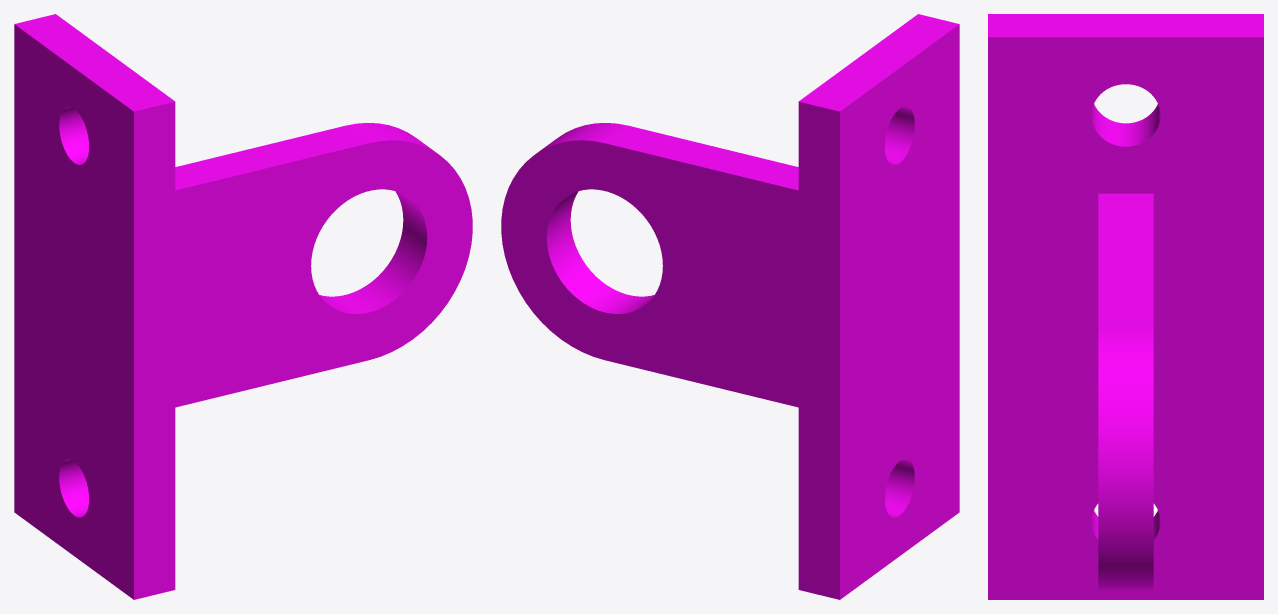
Rendered from _2025_Lunabotics_Hopper_Latch_AxleHolder.obj.
The picture shows the model from 3 angles, left to right: view 1: azimuth 30°, elevation 25°; view 2: azimuth 150°, elevation 25°; view 3: azimuth 270°, elevation 25°; orthographic projection. The views are drawn at different scales.
Visible parts, largest first — view 1: mesh1514, mesh1507, mesh1516, mesh1515, mesh1510, mesh1506, mesh1519, mesh1518, mesh1511; view 2: mesh1514, mesh1508, mesh1513, mesh1515, mesh1510, mesh1506, mesh1519, mesh1518, mesh1511; view 3: mesh1512, mesh1511, mesh1510, mesh1515, mesh1518.
Part boxes in pixels (box(x1,y1,x2,y2)): mesh1514: box(14, 24, 133, 599); mesh1507: box(175, 140, 472, 407); mesh1516: box(134, 102, 175, 599); mesh1515: box(14, 14, 174, 111); mesh1510: box(175, 126, 368, 190); mesh1506: box(319, 191, 427, 313); mesh1519: box(59, 459, 88, 517); mesh1518: box(59, 106, 88, 164); mesh1511: box(345, 123, 438, 154); mesh1514: box(840, 24, 959, 599); mesh1508: box(501, 140, 798, 407); mesh1513: box(798, 102, 839, 599); mesh1515: box(799, 14, 959, 111); mesh1510: box(605, 126, 798, 190); mesh1506: box(546, 191, 654, 313); mesh1519: box(885, 459, 914, 517); mesh1518: box(885, 106, 914, 164); mesh1511: box(535, 123, 628, 154); mesh1512: box(988, 37, 1263, 599); mesh1511: box(1098, 329, 1153, 592); mesh1510: box(1098, 193, 1153, 329); mesh1515: box(988, 14, 1263, 37); mesh1518: box(1091, 104, 1160, 146).
Bounding box in the file's own units: 0.0474 × 0.0571 × 0.0254.
